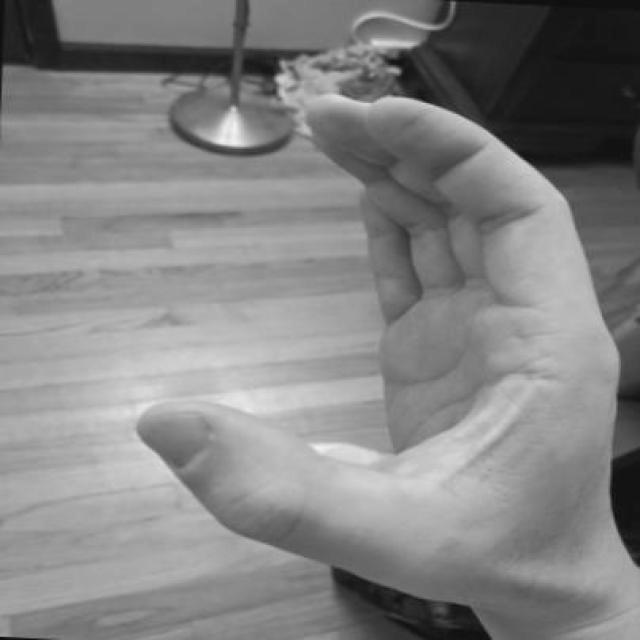C: (108, 73, 638, 626)
